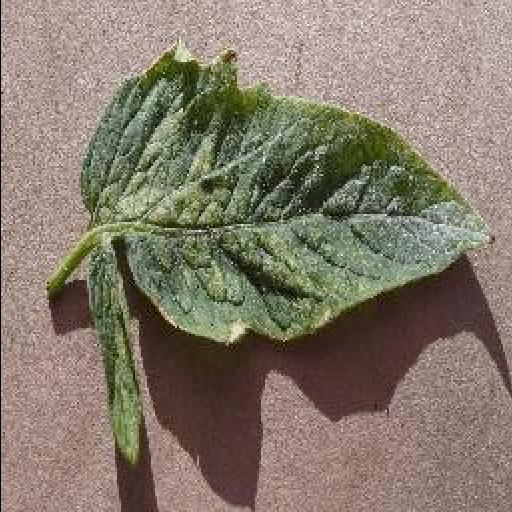disease_tomato: (80, 44, 498, 464)
